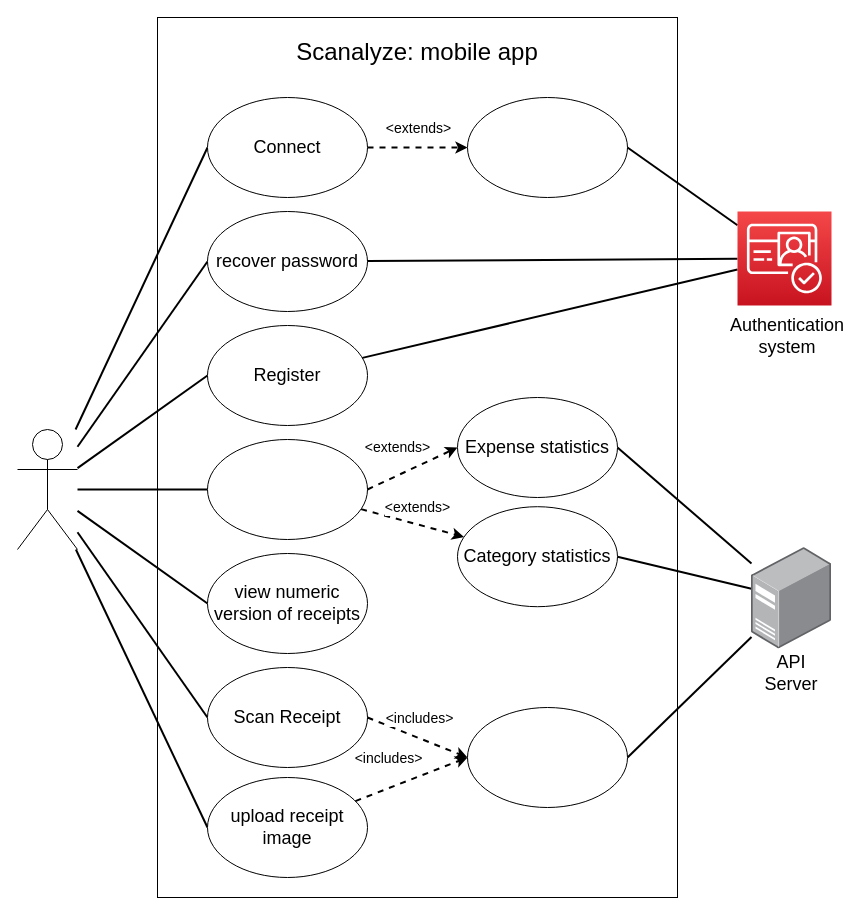
The diagram is 862 pixels wide and 915 high, and some of its shapes have lost their labels. The centre of each missing label's shape, as x and y in pixels:
"Multifactor authentication" belongs at (x=547, y=147).
"OCR" belongs at (x=547, y=757).
"user" belongs at (x=47, y=489).
"view statistics" belongs at (x=287, y=489).
